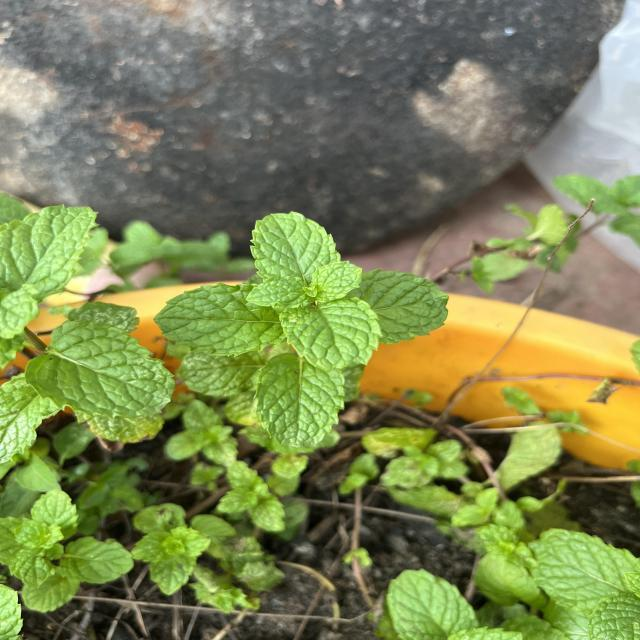Mentha spicata: (23, 318, 176, 422), (152, 280, 292, 358), (251, 353, 348, 451), (278, 296, 386, 372), (357, 266, 451, 346), (248, 209, 342, 283)
